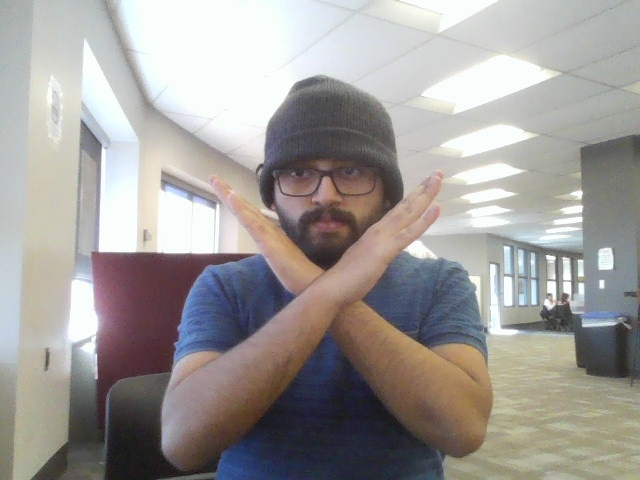start: (198, 170, 457, 419)
